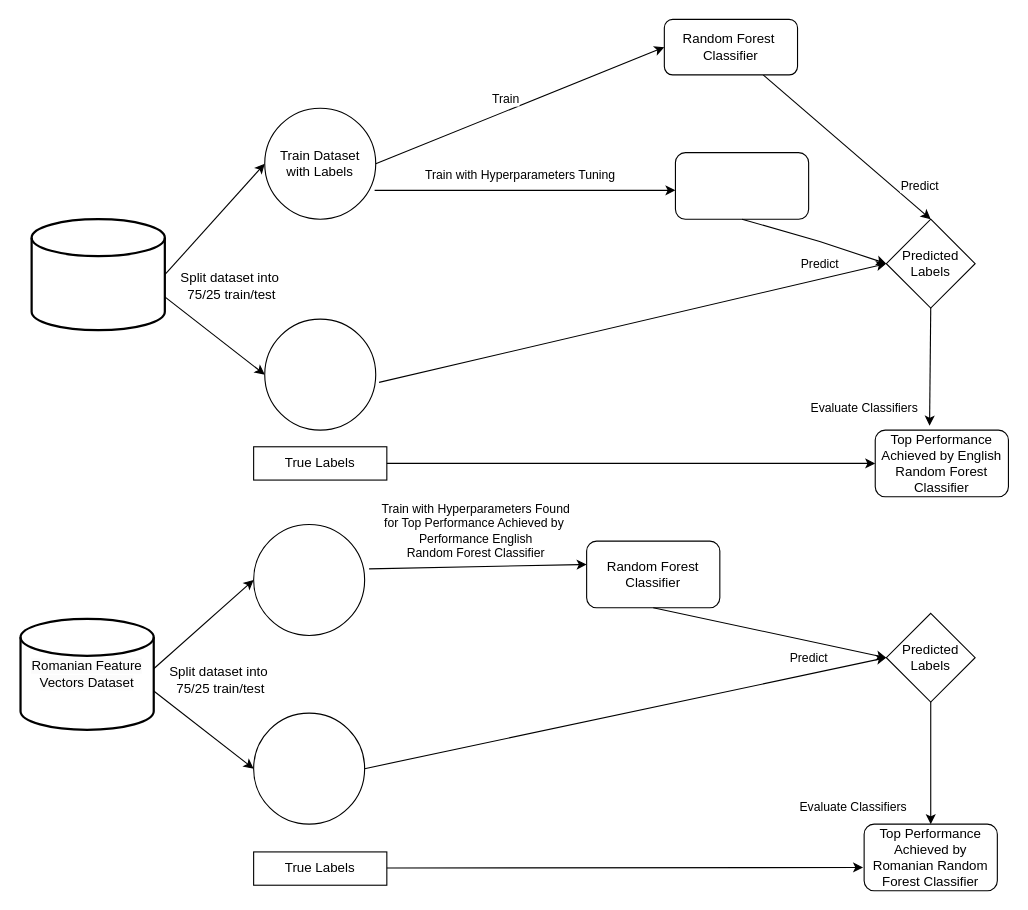
The diagram is 1028 pixels wide and 910 high, and some of its shapes have lost their labels. The shapes that lost their labels are listed below. From the top down, each one's box as (x1, y1, x2, y2) in pixels, then its label:
(674, 152, 809, 219): Random Forest Classifier with Hyperparameters
(30, 218, 165, 331): English Feature Vectors Dataset
(264, 318, 376, 430): Test Dataset with no Labels
(253, 523, 365, 635): Train Dataset
(253, 712, 365, 824): Test Dataset
